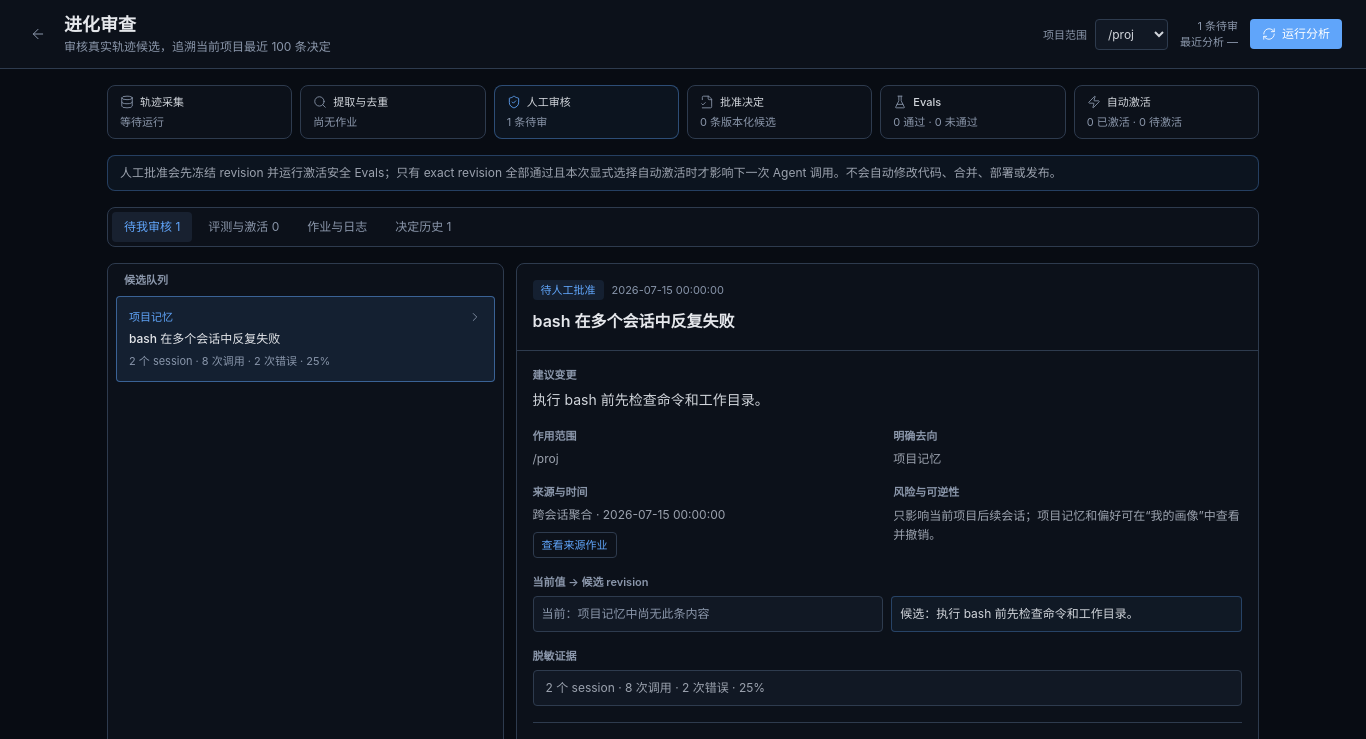
Scenario: EvolutionWorkbenchPage › shows a source-job read error instead of an empty ledger
Click the button "查看来源作业" at coordinates (574, 545), box [532,532,616,558]
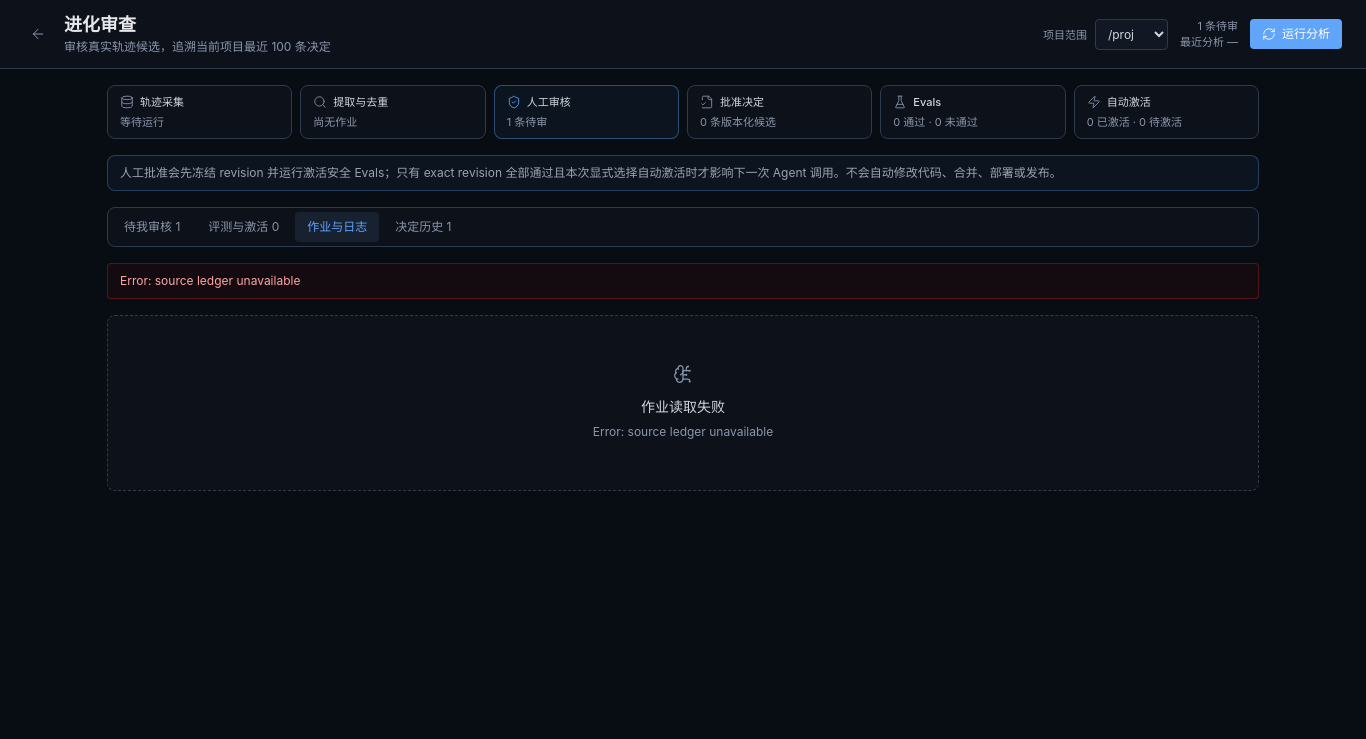
Now the text "作业读取失败" is shown, box [641,398,725,415]
Now the text "Error: source ledger unavailable" is shown 2 times, box [107,263,1259,299]; [593,424,773,439]
